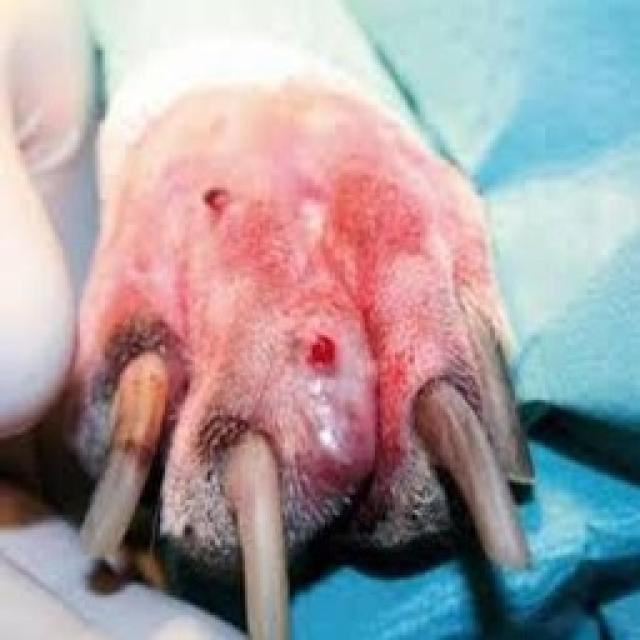hotspot: (118, 113, 493, 458), (331, 168, 419, 266), (306, 334, 334, 370)
